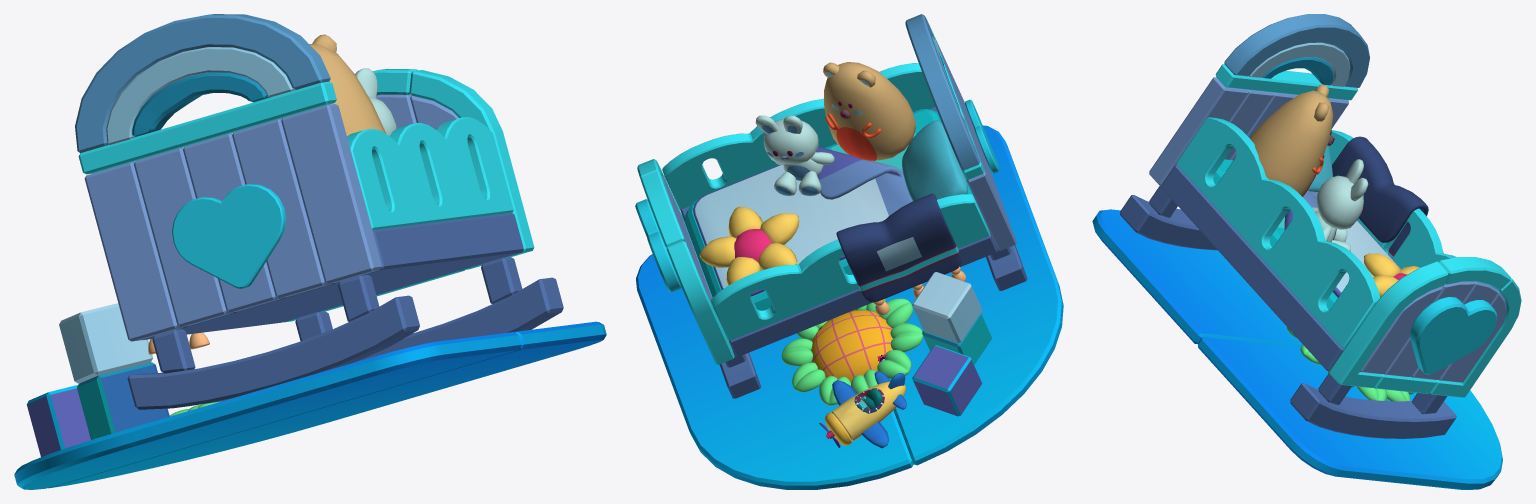
The model's file is lvl_2.fbx.
3 renders of one model, left to right at view 1: azimuth 30°, elevation 25°; view 2: azimuth 150°, elevation 25°; view 3: azimuth 270°, elevation 25°, orthographic. The views are drawn at different scales.
Parts seen in each view (by area): view 1: Board_BabyCrib_17, Board_BabyCrib_6, Board_BabyCrib_2, Board_BabyCrib_25, Board_BabyCrib_28, Board_BabyCrib_23, Board_BabyCrib_9, Board_BabyCrib_21, Board_BabyCrib_19, Board_BabyCrib_22, Board_BabyCrib_20, Board_BabyCrib_5 (+8 smaller); view 2: Board_BabyCrib_9, Board_BabyCrib_6, Board_BabyCrib_27, Board_BabyCrib_3, Board_BabyCrib_26, Board_BabyCrib_2, Board_BabyCrib_7, Board_BabyCrib_18, Board_BabyCrib_16, Board_BabyCrib_17, Board_BabyCrib_8, Board_BabyCrib_4 (+13 smaller); view 3: Board_BabyCrib_9, Board_BabyCrib_2, Board_BabyCrib_6, Board_BabyCrib_17, Board_BabyCrib_27, Board_BabyCrib_28, Board_BabyCrib_5, Board_BabyCrib_14, Board_BabyCrib_7, Board_BabyCrib_15, Board_BabyCrib_0, Board_BabyCrib_13 (+10 smaller).
Part boxes in pixels (box(x1,y1,x2,y2)): Board_BabyCrib_17: box(75, 14, 336, 174); Board_BabyCrib_6: box(14, 332, 521, 489); Board_BabyCrib_2: box(347, 117, 513, 230); Board_BabyCrib_25: box(127, 274, 419, 409); Board_BabyCrib_28: box(142, 212, 523, 340); Board_BabyCrib_23: box(281, 104, 381, 283); Board_BabyCrib_9: box(48, 321, 606, 488); Board_BabyCrib_21: box(84, 162, 183, 341); Board_BabyCrib_19: box(172, 184, 286, 288); Board_BabyCrib_22: box(232, 118, 331, 298); Board_BabyCrib_20: box(134, 147, 233, 326); Board_BabyCrib_5: box(295, 257, 563, 361); Board_BabyCrib_9: box(636, 254, 913, 489); Board_BabyCrib_6: box(885, 125, 1063, 465); Board_BabyCrib_27: box(711, 193, 990, 340); Board_BabyCrib_3: box(693, 147, 912, 296); Board_BabyCrib_26: box(781, 298, 923, 405); Board_BabyCrib_2: box(662, 63, 935, 209); Board_BabyCrib_7: box(823, 62, 915, 160); Board_BabyCrib_18: box(699, 206, 799, 285); Board_BabyCrib_16: box(819, 371, 906, 448); Board_BabyCrib_17: box(905, 14, 984, 179); Board_BabyCrib_8: box(755, 115, 834, 196); Board_BabyCrib_4: box(902, 120, 967, 201); Board_BabyCrib_9: box(1198, 337, 1502, 489); Board_BabyCrib_2: box(1176, 117, 1380, 348); Board_BabyCrib_6: box(1092, 209, 1302, 347); Board_BabyCrib_17: box(1215, 14, 1369, 100); Board_BabyCrib_27: box(1329, 130, 1456, 268); Board_BabyCrib_28: box(1161, 165, 1344, 370); Board_BabyCrib_5: box(1290, 372, 1456, 438); Board_BabyCrib_14: box(1329, 261, 1448, 387); Board_BabyCrib_7: box(1250, 84, 1334, 196); Board_BabyCrib_15: box(1410, 297, 1497, 374); Board_BabyCrib_0: box(1374, 257, 1510, 393); Board_BabyCrib_13: box(1429, 269, 1521, 397).
Size of the model in its own units: 12.17 by 11.65 by 10.87.
